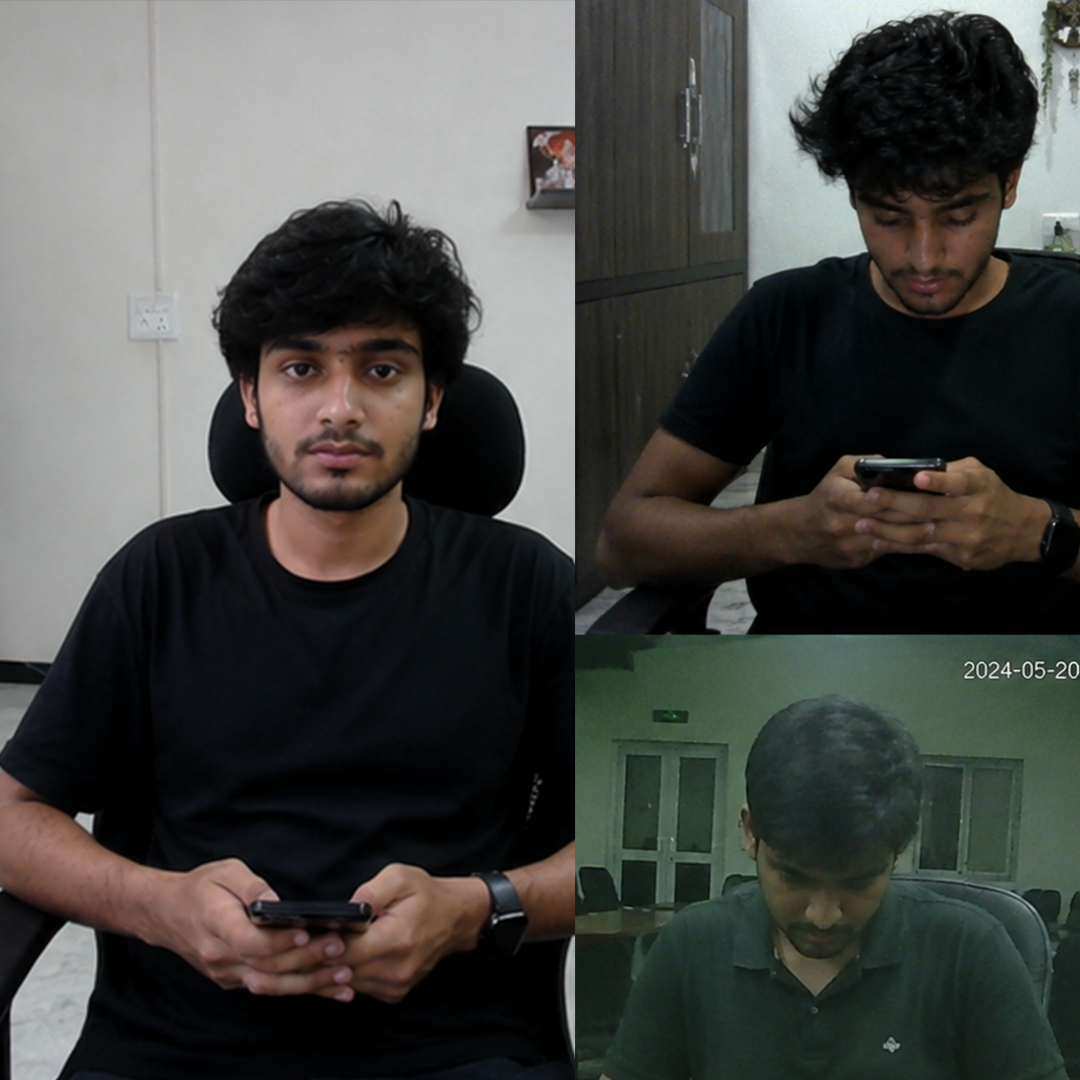Focused: (143, 157, 542, 991)
distracted: (673, 39, 1056, 621), (660, 666, 962, 1080)
